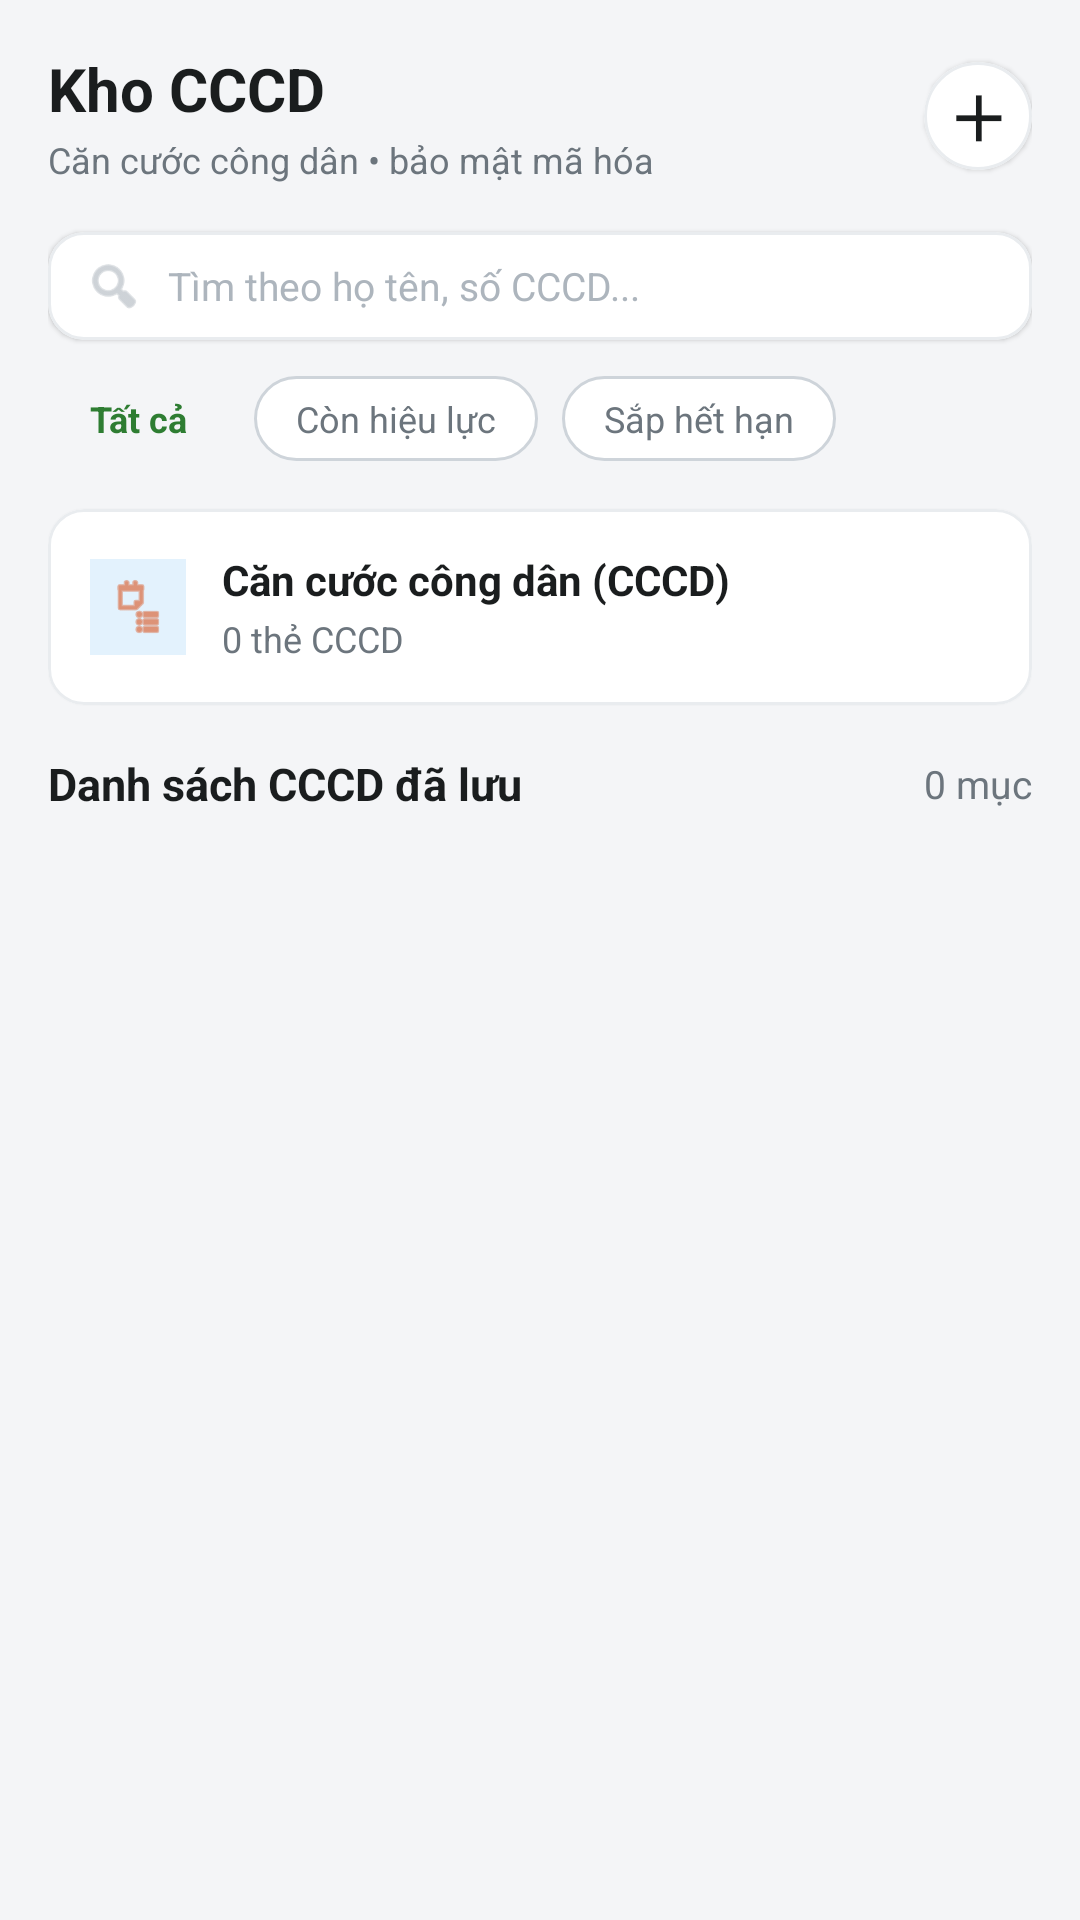

Icon bounding boxes for this 1080 × 1920 phone screenshot, format [x1=x1, y1=y1, x2=x2, y2=y2]:
agenda: [x1=90, y1=559, x2=186, y2=655]
search: [x1=92, y1=264, x2=136, y2=308]
